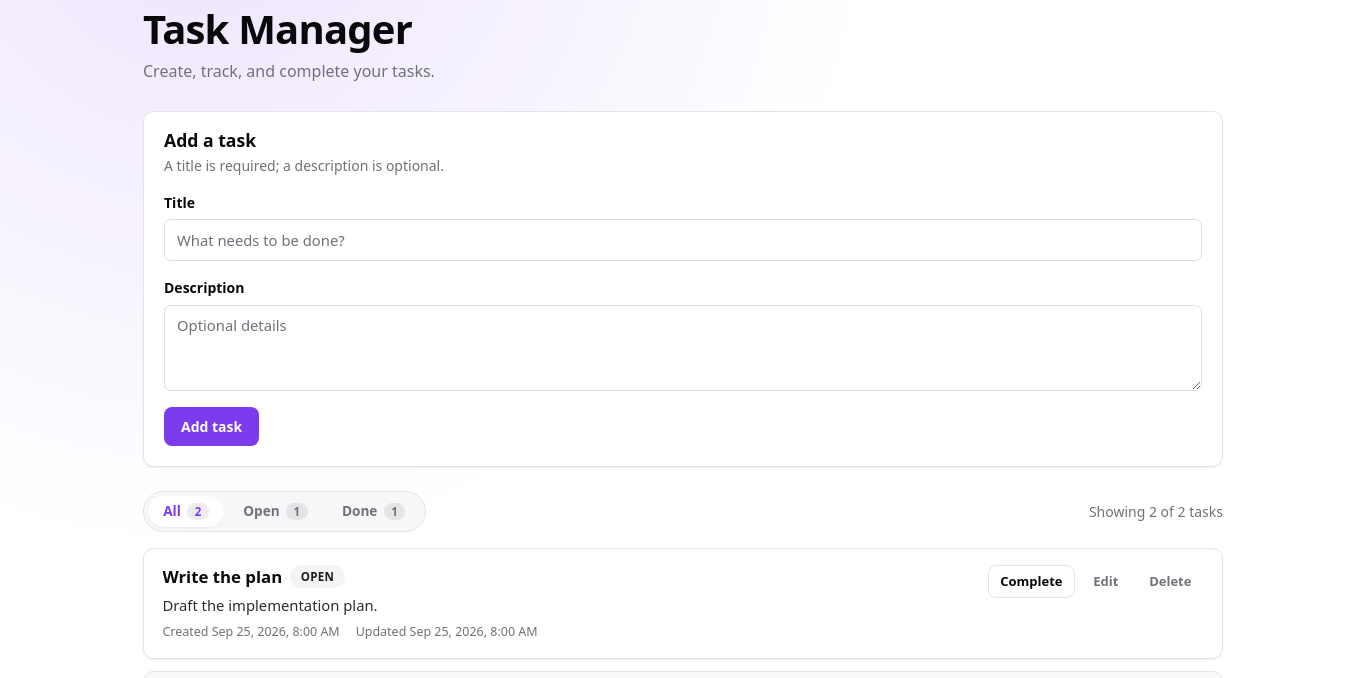
it: App › rolls back a failed optimistic update and shows an error
Click the button with aria-label "Edit Write the plan": (1106, 582) 1081,565 -> 1131,598
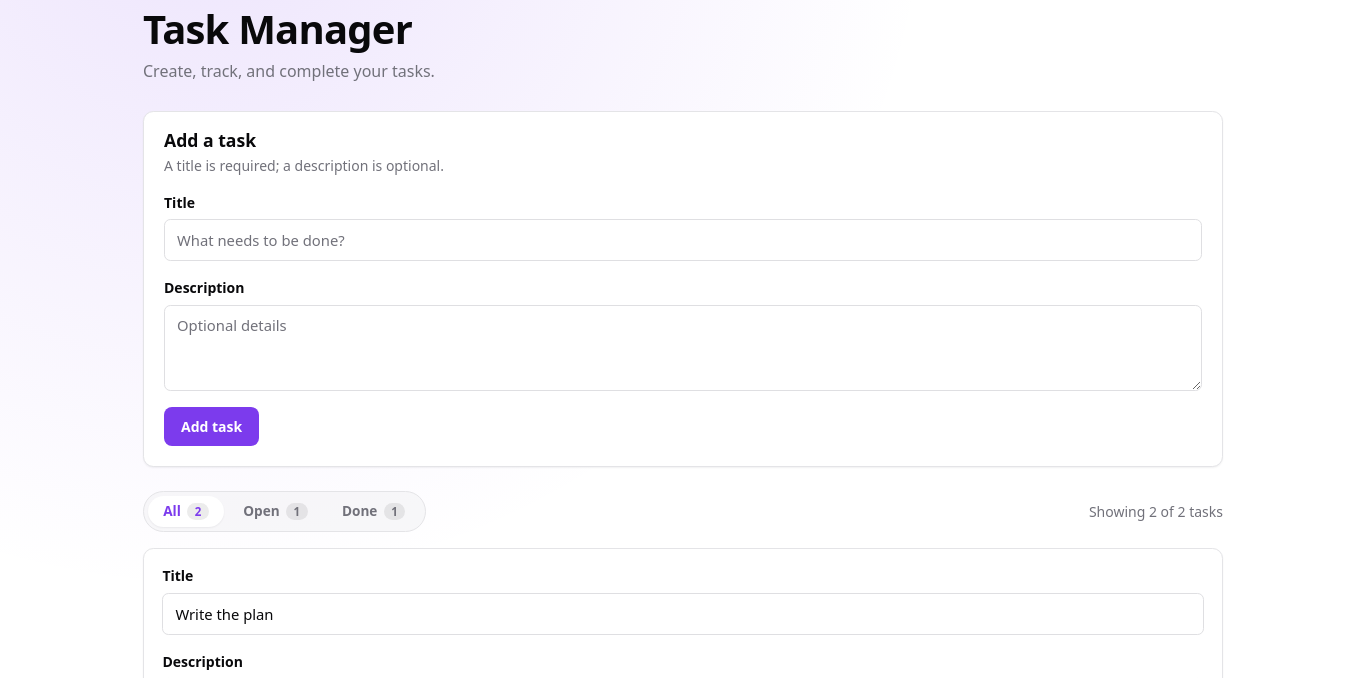
Replace the text in the field labelled "Title" below "Showing" with "Doomed change": (683, 614) 162,593 -> 1204,635
(page scrolled)
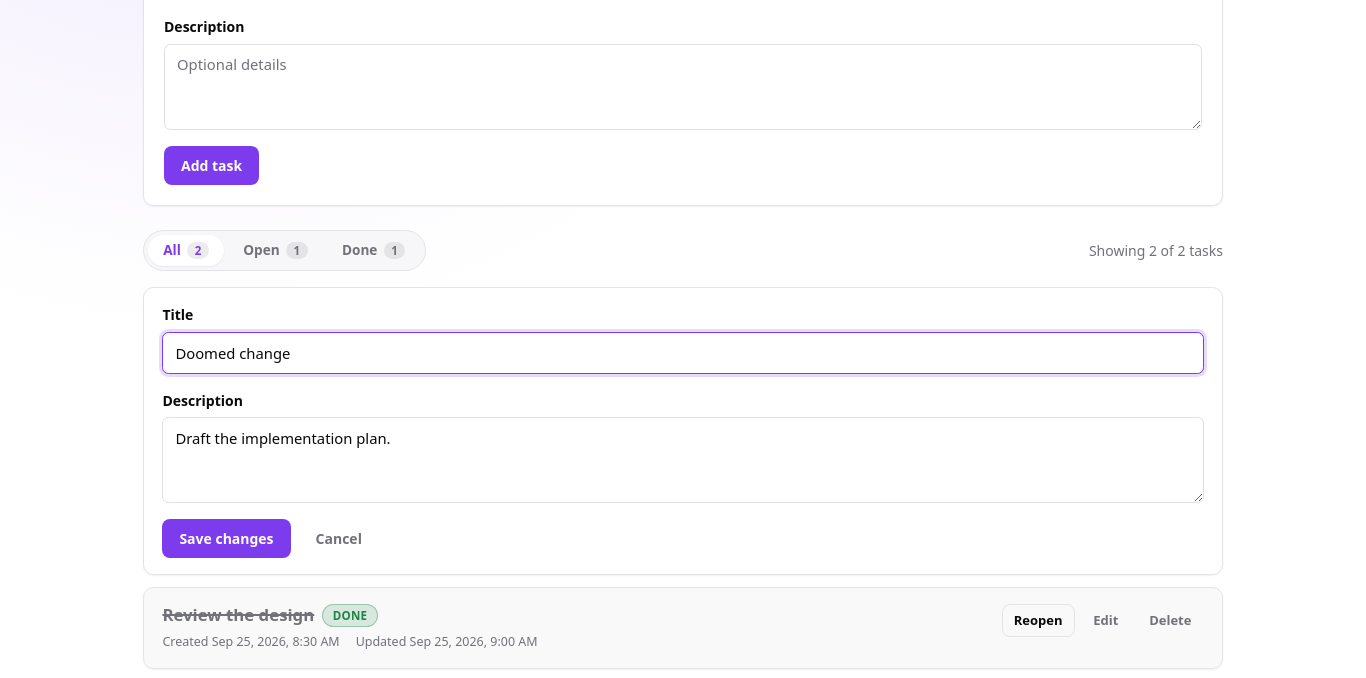
Click the button "Save changes": (226, 539) 162,519 -> 291,558
(page scrolled)
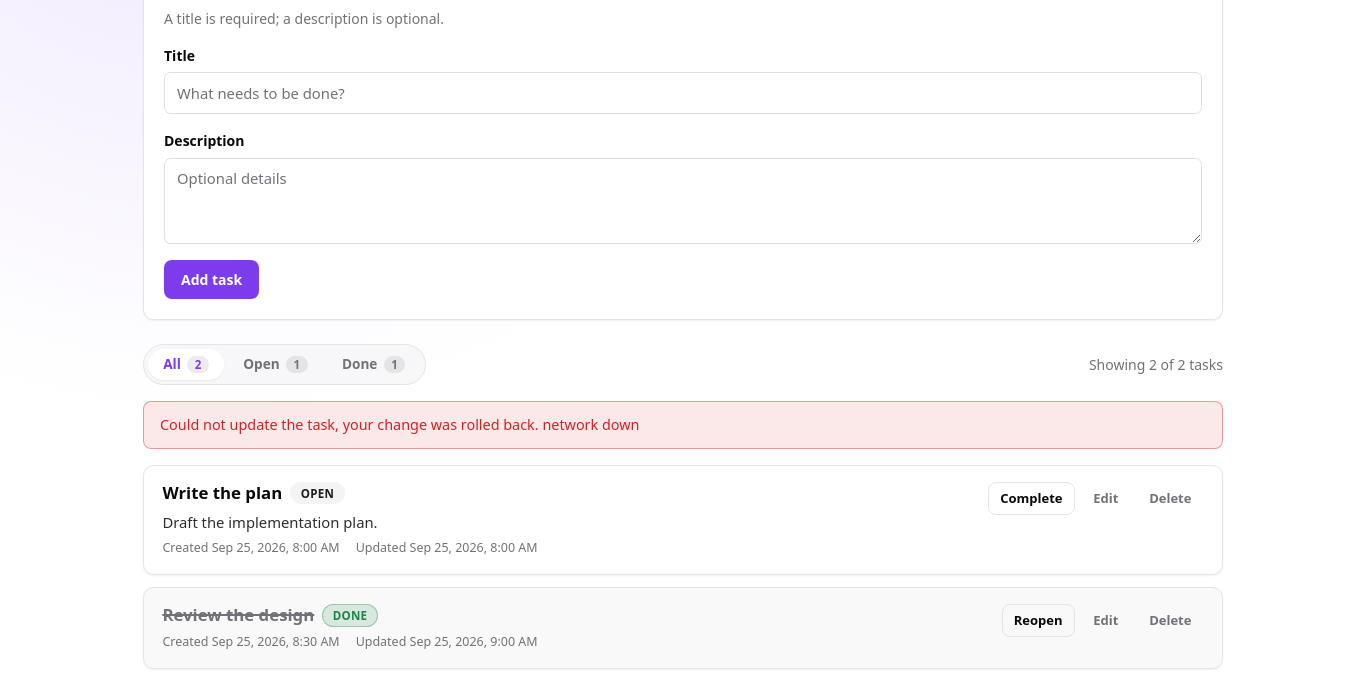
expect the heading "Doomed change" is not shown: met
expect the text "Could not update the task, your change was rolled back. network down" is shown: met, box 143,401 -> 1223,449
expect the heading "Write the plan" is shown: met, box 162,483 -> 282,503
